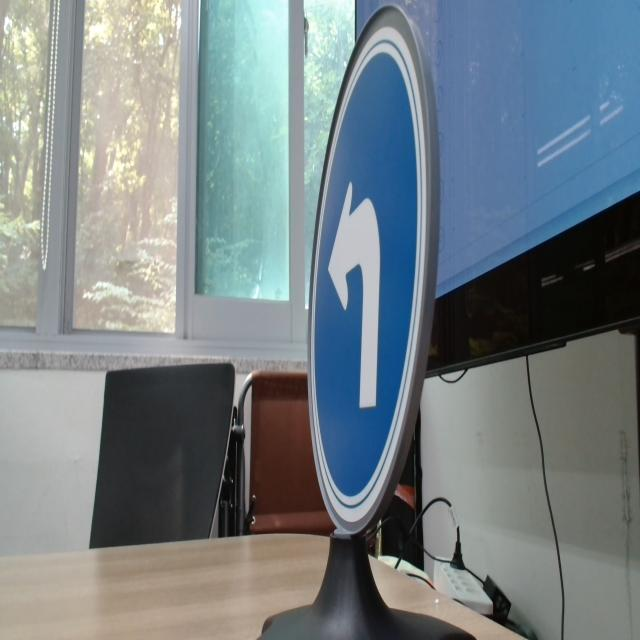left_direction: (282, 9, 438, 536)
